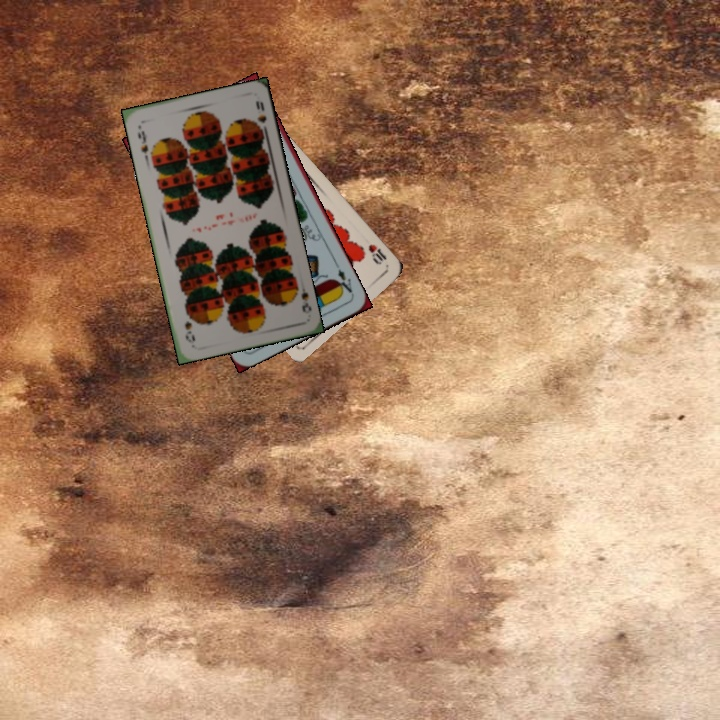EA: (332, 260, 356, 298)
H10: (364, 240, 389, 267)
S9: (289, 279, 314, 315), (133, 127, 151, 156)
